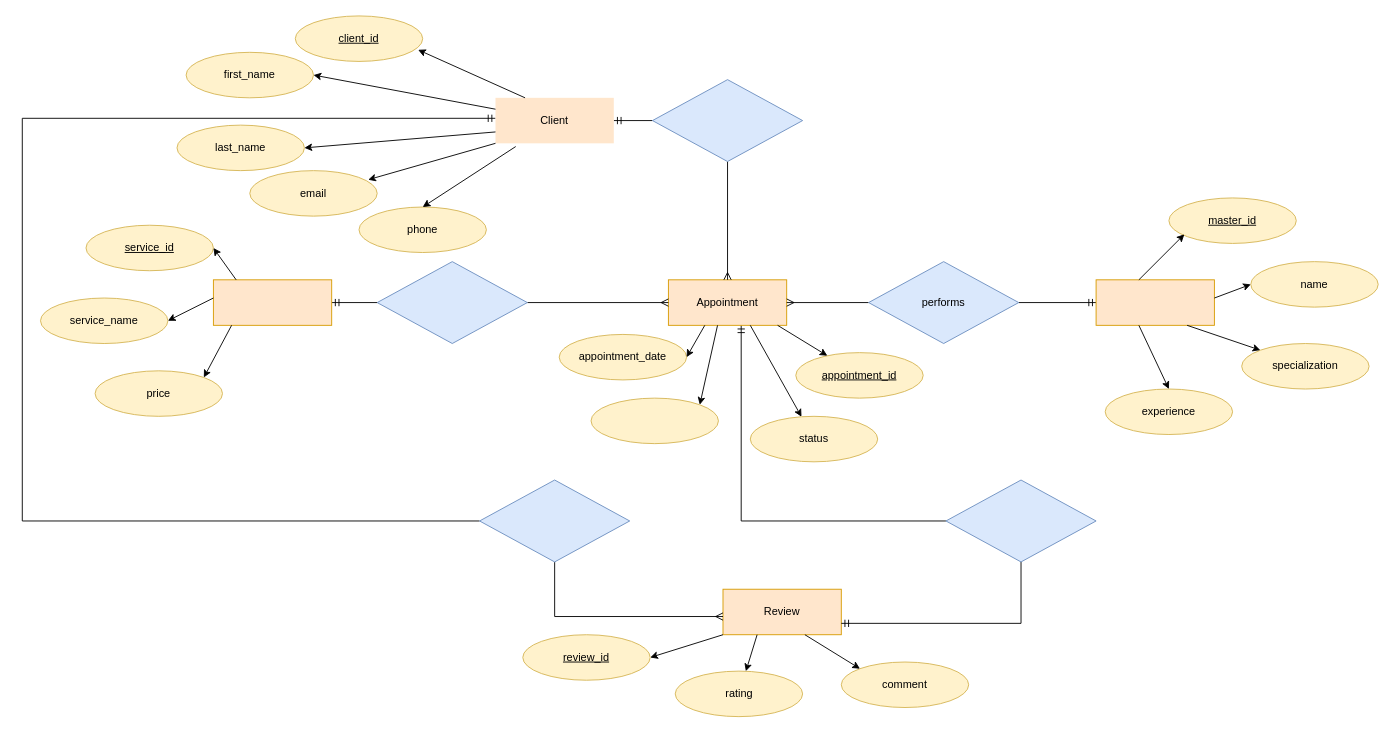
Image size: 1394x733. Some labels were removed from this diagram. Each missing label, with the box of its shape:
appointment_time: (590, 397, 718, 444)
books: (652, 79, 803, 162)
contains: (376, 261, 527, 344)
has: (945, 479, 1096, 562)
Master: (1095, 279, 1214, 325)
Service: (212, 279, 332, 325)
writes: (479, 479, 630, 562)
